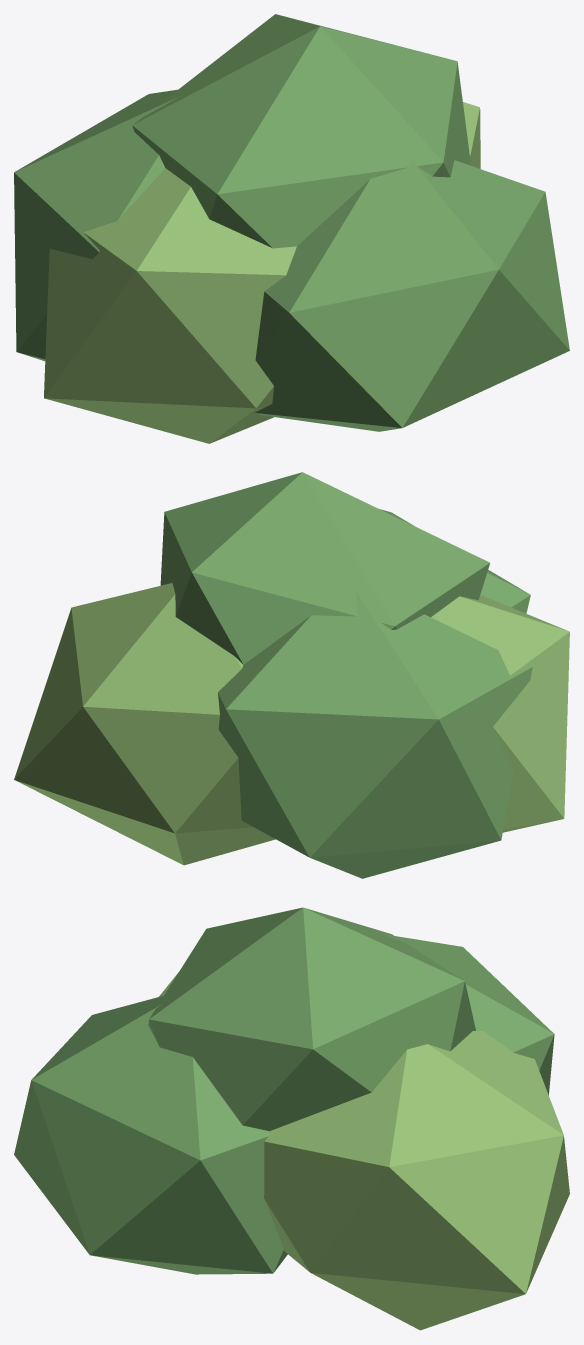
The model's file is SM_Bush_02.fbx.
3 views of the same model, one above another, from view 1: azimuth 30°, elevation 25°; view 2: azimuth 150°, elevation 25°; view 3: azimuth 270°, elevation 25° (orthographic). The views are drawn at different scales.
Parts seen in each view (by area): view 1: SM_Bush_02; view 2: SM_Bush_02; view 3: SM_Bush_02.
Boxes of the visible parts, left/top/right/bottom form: SM_Bush_02: left=14, top=14, right=569, bottom=443; SM_Bush_02: left=14, top=472, right=569, bottom=878; SM_Bush_02: left=14, top=907, right=569, bottom=1330.
Size of the model in its own units: 0.8074 by 0.6301 by 0.8135.
